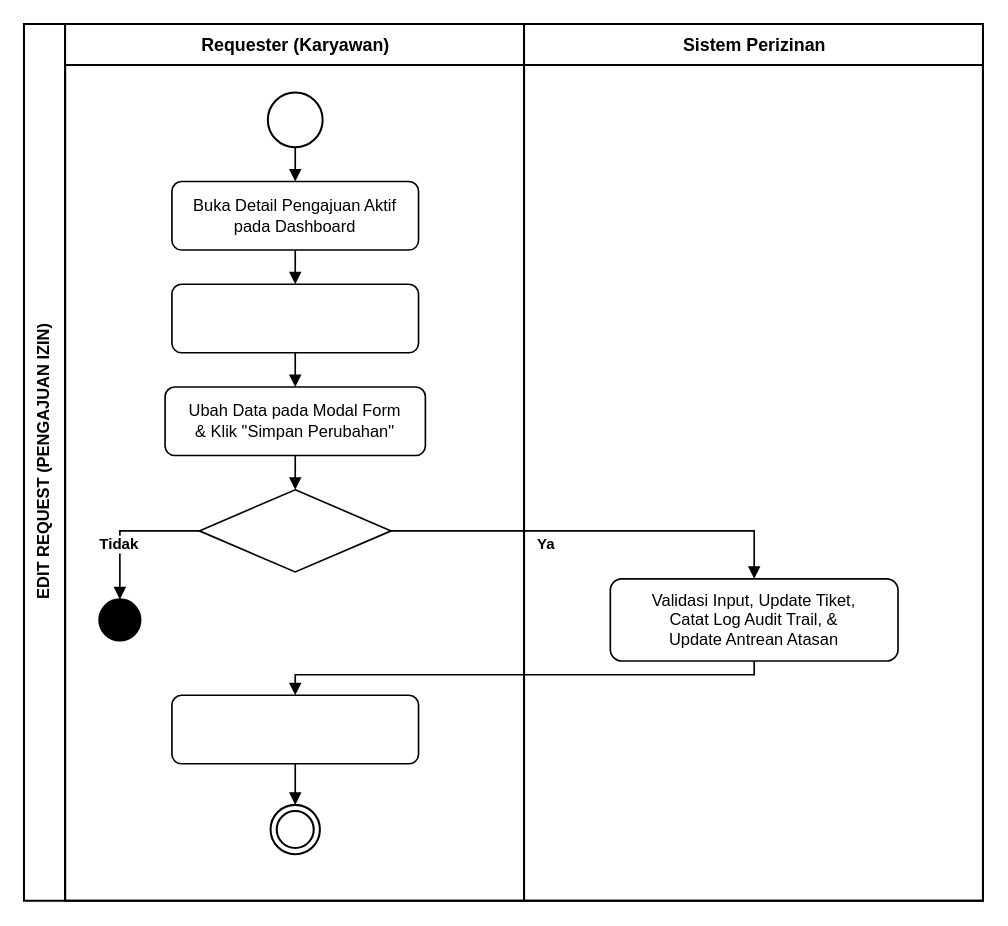
Some shapes in this 1008 by 926 pixel diagram are drawn without their labels. The centre of each missing label's shape, as x and y in pixels:
Klik Tombol "Edit Pengajuan": pixel 294 318
Status Masih Menunggu?: pixel 294 530
Terima Notifikasi Berhasil & Lihat Detail Tiket Terkini: pixel 294 729
